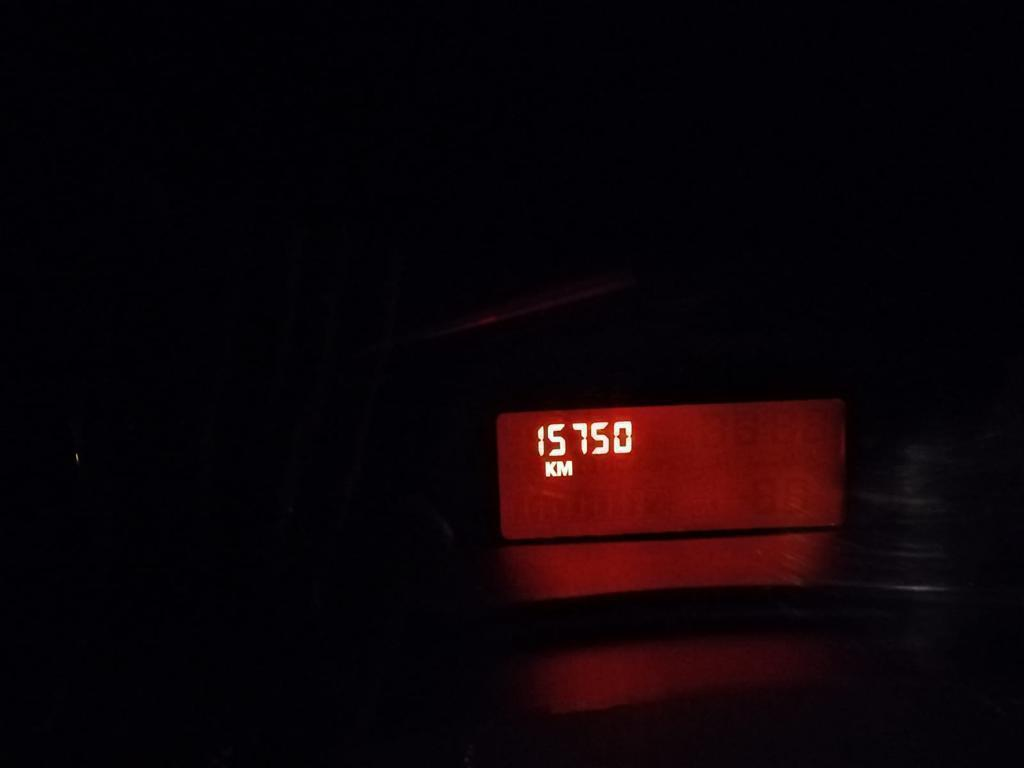0: (613, 420, 633, 454)
1: (536, 424, 545, 456)
5: (546, 423, 567, 456), (590, 421, 609, 455)
7: (571, 422, 588, 456)
X: (556, 460, 573, 477), (544, 460, 556, 477)
odometer: (485, 391, 856, 548)
